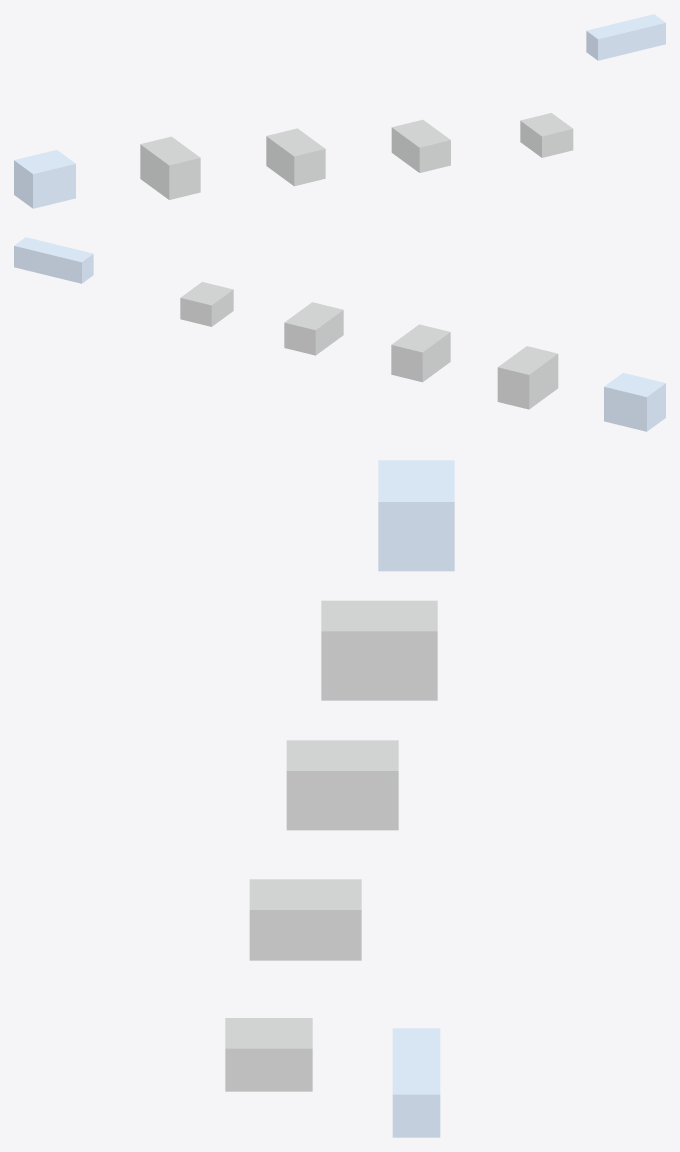
3 views of the same model, one above another, from view 1: azimuth 30°, elevation 25°; view 2: azimuth 150°, elevation 25°; view 3: azimuth 270°, elevation 25° (orthographic). The views are drawn at different scales.
Parts seen in each view (by area): view 1: Stage 1 ×3 Bottleneck, Input / stem, Stage 2 ×4 Bottleneck, Pooling / classifier, Stage 3 ×6 Bottleneck, Stage 4 ×3 Bottleneck; view 2: Stage 1 ×3 Bottleneck, Input / stem, Stage 2 ×4 Bottleneck, Pooling / classifier, Stage 3 ×6 Bottleneck, Stage 4 ×3 Bottleneck; view 3: Stage 1 ×3 Bottleneck, Stage 2 ×4 Bottleneck, Stage 3 ×6 Bottleneck, Input / stem, Stage 4 ×3 Bottleneck, Pooling / classifier.
Boxes of the visible parts, box(x1,y1,x2,y2) form: Stage 1 ×3 Bottleneck: box(140, 136, 200, 199); Input / stem: box(14, 150, 75, 208); Stage 2 ×4 Bottleneck: box(266, 128, 325, 186); Pooling / classifier: box(586, 14, 665, 60); Stage 3 ×6 Bottleneck: box(391, 119, 450, 172); Stage 4 ×3 Bottleneck: box(520, 113, 573, 157); Stage 1 ×3 Bottleneck: box(497, 346, 558, 409); Input / stem: box(604, 373, 665, 431); Stage 2 ×4 Bottleneck: box(391, 324, 450, 382); Pooling / classifier: box(14, 237, 93, 283); Stage 3 ×6 Bottleneck: box(284, 302, 343, 355); Stage 4 ×3 Bottleneck: box(180, 282, 233, 326); Stage 1 ×3 Bottleneck: box(321, 600, 437, 700); Stage 2 ×4 Bottleneck: box(286, 740, 398, 830); Stage 3 ×6 Bottleneck: box(249, 879, 361, 960); Input / stem: box(378, 460, 454, 571); Stage 4 ×3 Bottleneck: box(225, 1018, 312, 1091); Pooling / classifier: box(392, 1028, 440, 1137).
Size of the model in its own units: 40.52 by 4.3 by 6.33.
